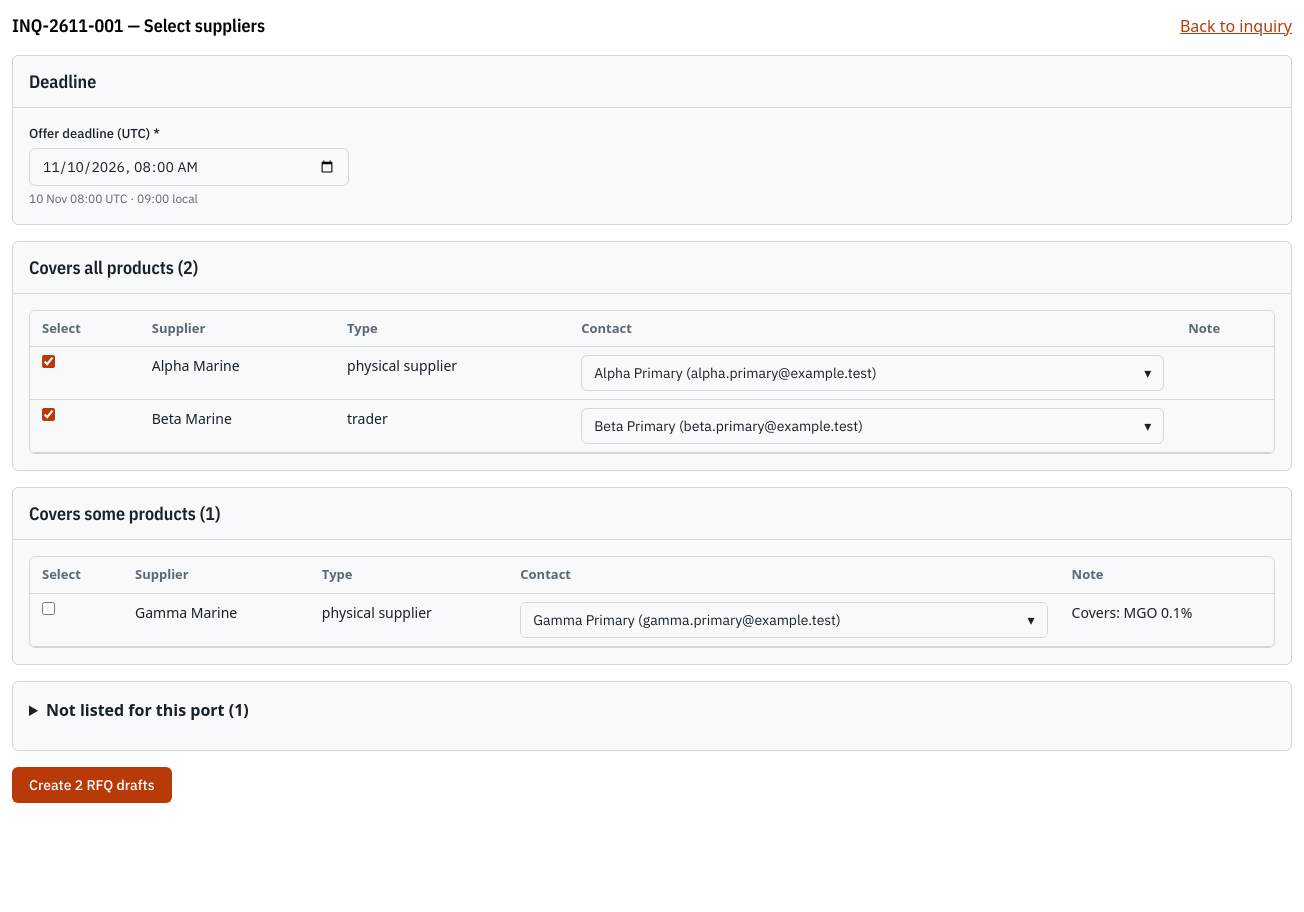
Test: SupplierSelection › [B3-R13] the create button counts the selection and is disabled at zero
Step 1. Click the checkbox named "Select Gamma Marine" next to "Gamma Marine" → {"x": 48, "y": 608}, box x1=42 y1=602 x2=55 y2=614
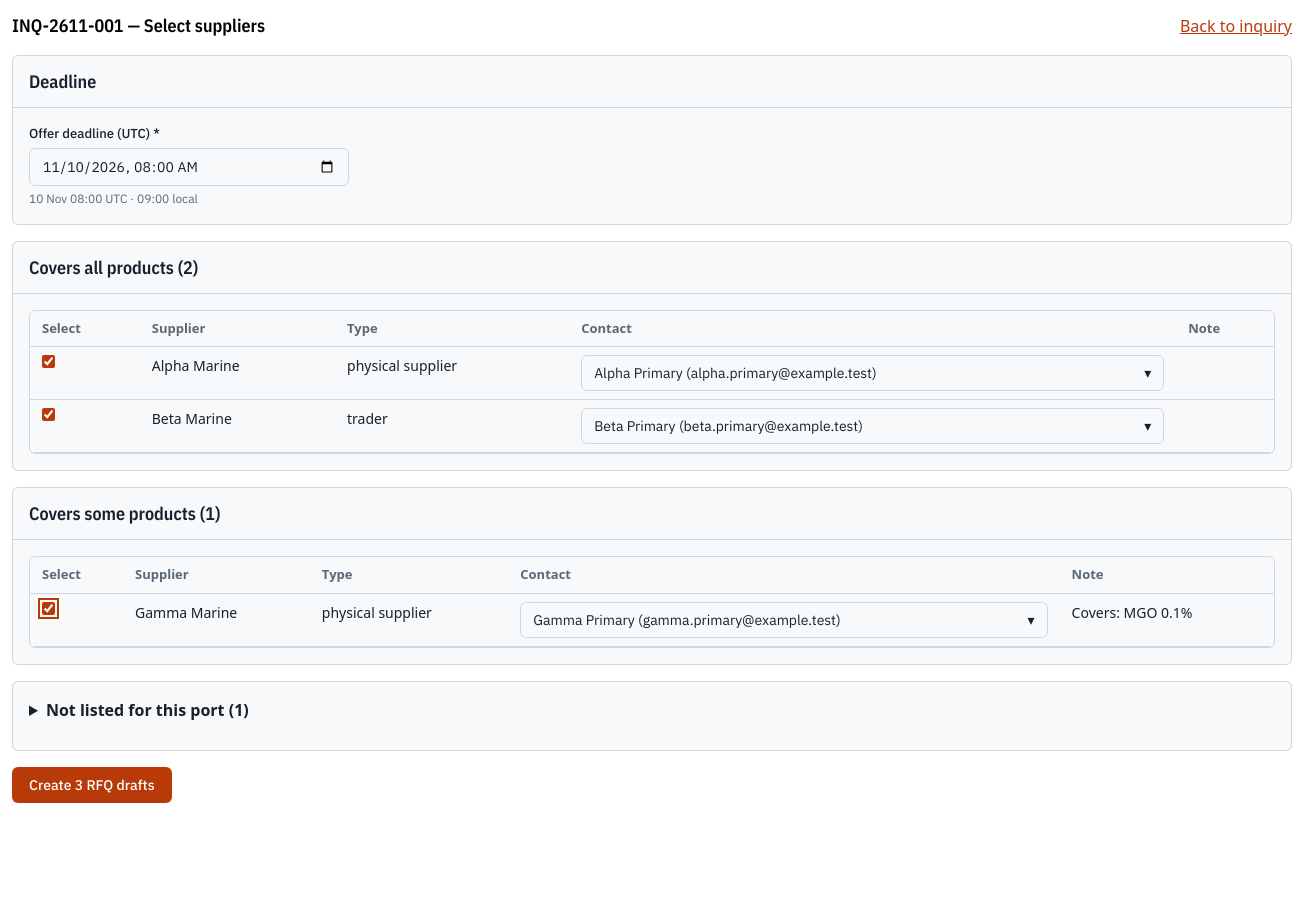
Now the button "Create 3 RFQ drafts" is shown, box x1=12 y1=766 x2=172 y2=802
Step 2. Click the checkbox named "Select Alpha Marine" next to "Alpha Marine" → {"x": 48, "y": 362}, box x1=42 y1=355 x2=55 y2=368
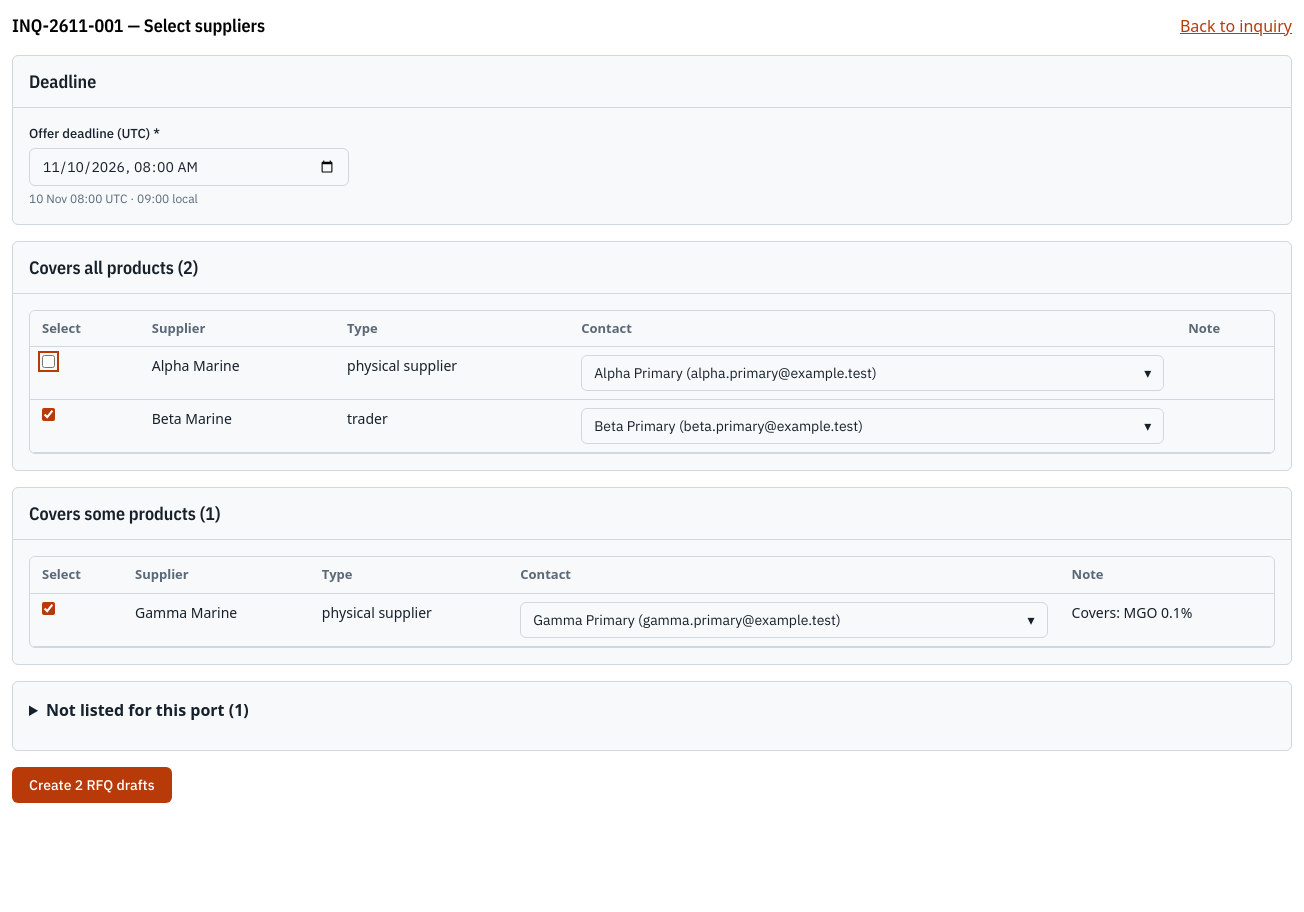
Step 3. Click the checkbox named "Select Beta Marine" next to "Beta Marine" → {"x": 48, "y": 414}, box x1=42 y1=408 x2=55 y2=421
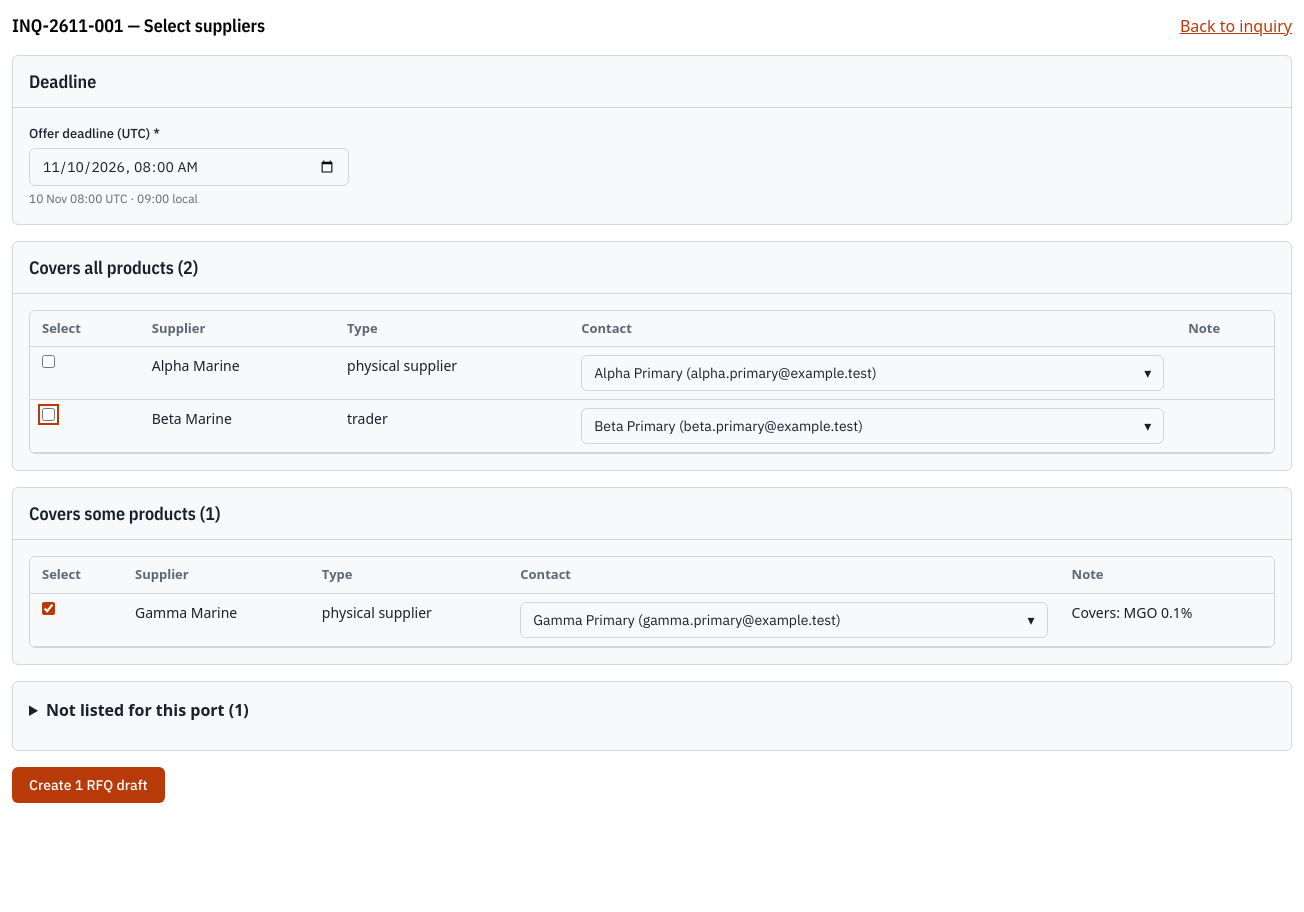
Step 4. Click the checkbox named "Select Gamma Marine" next to "Gamma Marine" → {"x": 48, "y": 608}, box x1=42 y1=602 x2=55 y2=614
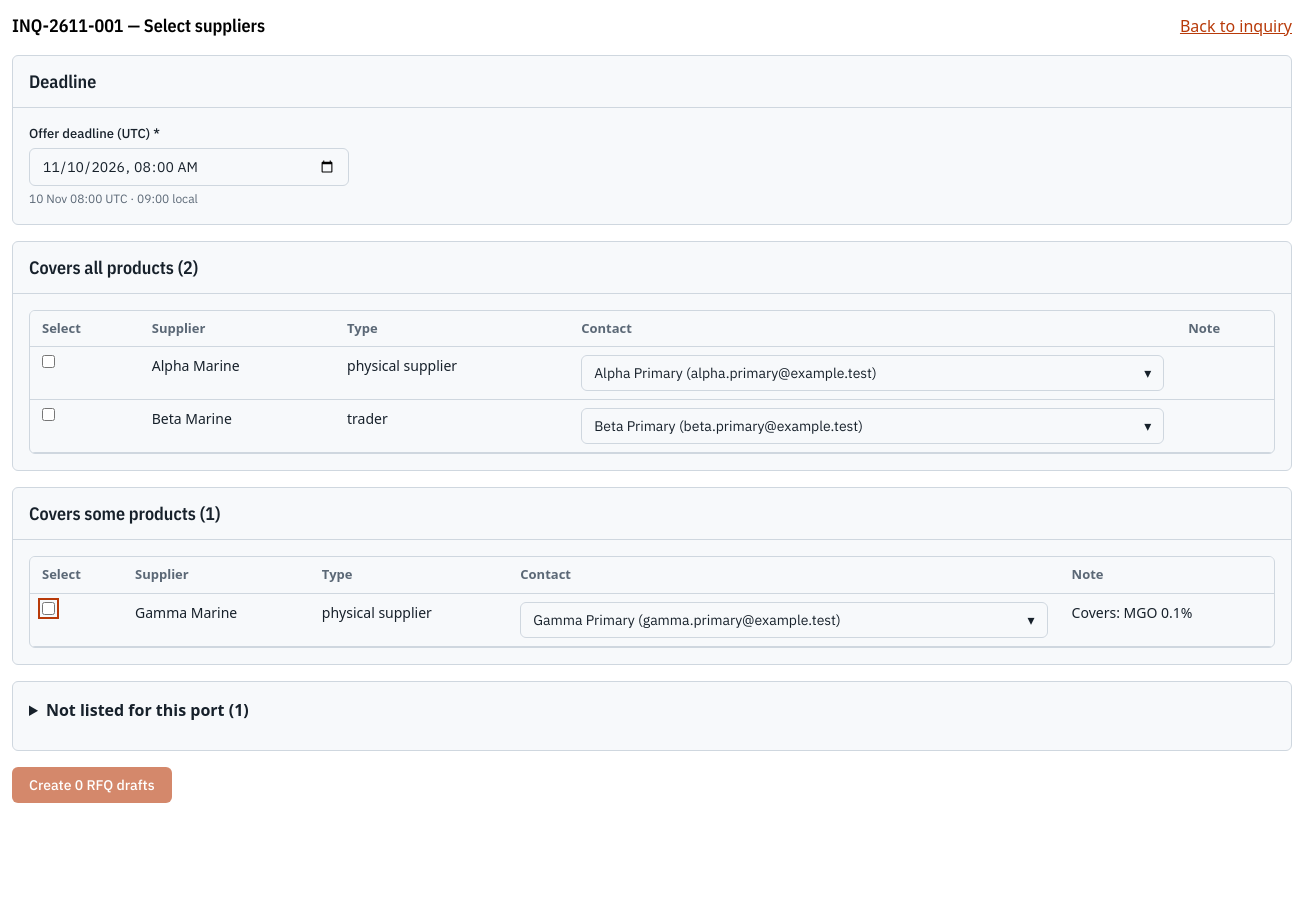
Now the button "Create 0 RFQ drafts" is disabled, box x1=12 y1=766 x2=172 y2=802
